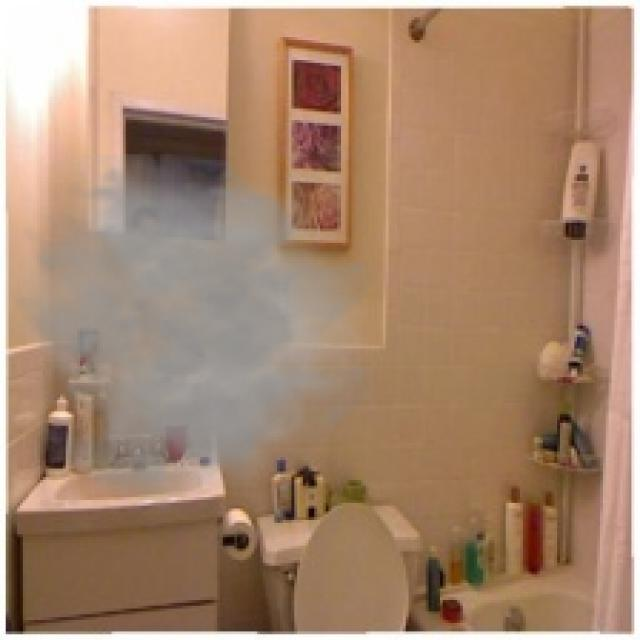Smoke: (6, 154, 380, 529)
